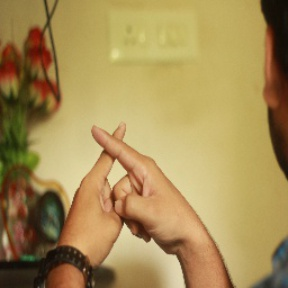X: (68, 107, 167, 215)
